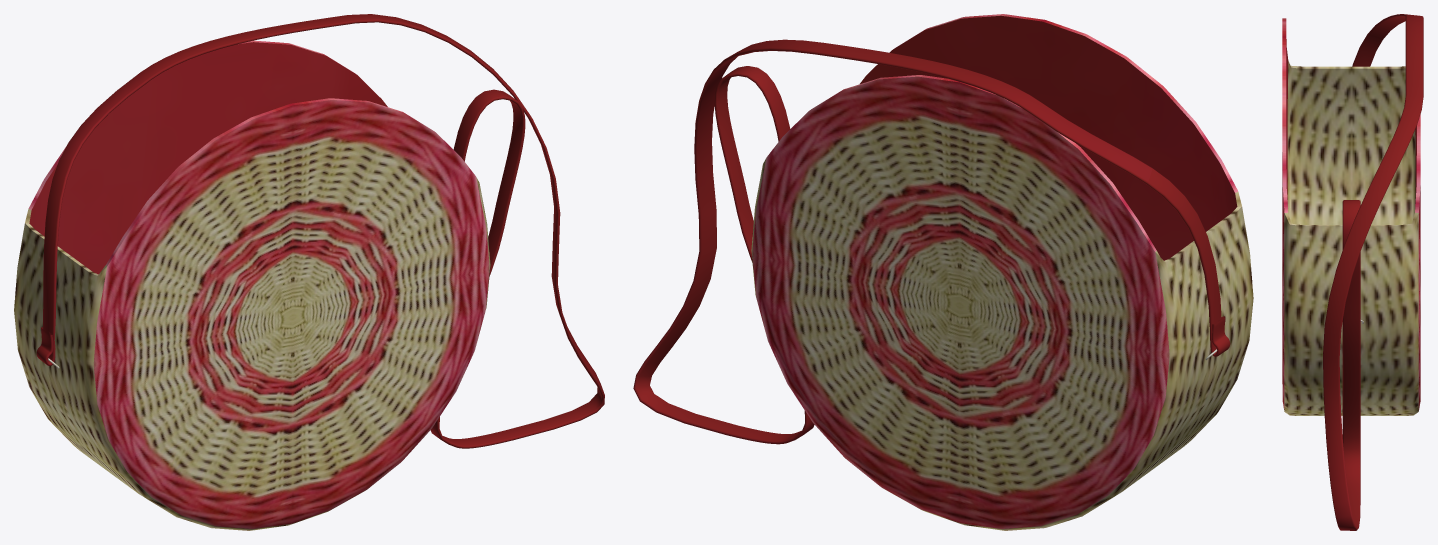
Rendered from bag.glb.
3 renders of one model, left to right at view 1: azimuth 30°, elevation 25°; view 2: azimuth 150°, elevation 25°; view 3: azimuth 270°, elevation 25°, orthographic. The views are drawn at different scales.
Visible parts, largest first — view 1: Rattan Bag (Winny Bag) (EMP (JHR) 27D); view 2: Rattan Bag (Winny Bag) (EMP (JHR) 27D); view 3: Rattan Bag (Winny Bag) (EMP (JHR) 27D).
Boxes of the visible parts, x1,y1,x2,y2 form: Rattan Bag (Winny Bag) (EMP (JHR) 27D): [14, 14, 604, 530]; Rattan Bag (Winny Bag) (EMP (JHR) 27D): [633, 14, 1253, 530]; Rattan Bag (Winny Bag) (EMP (JHR) 27D): [1282, 14, 1423, 530].
Size of the model in its own units: 20.01 by 14.68 by 5.12.
Materials: 2 (2 with a texture image).
